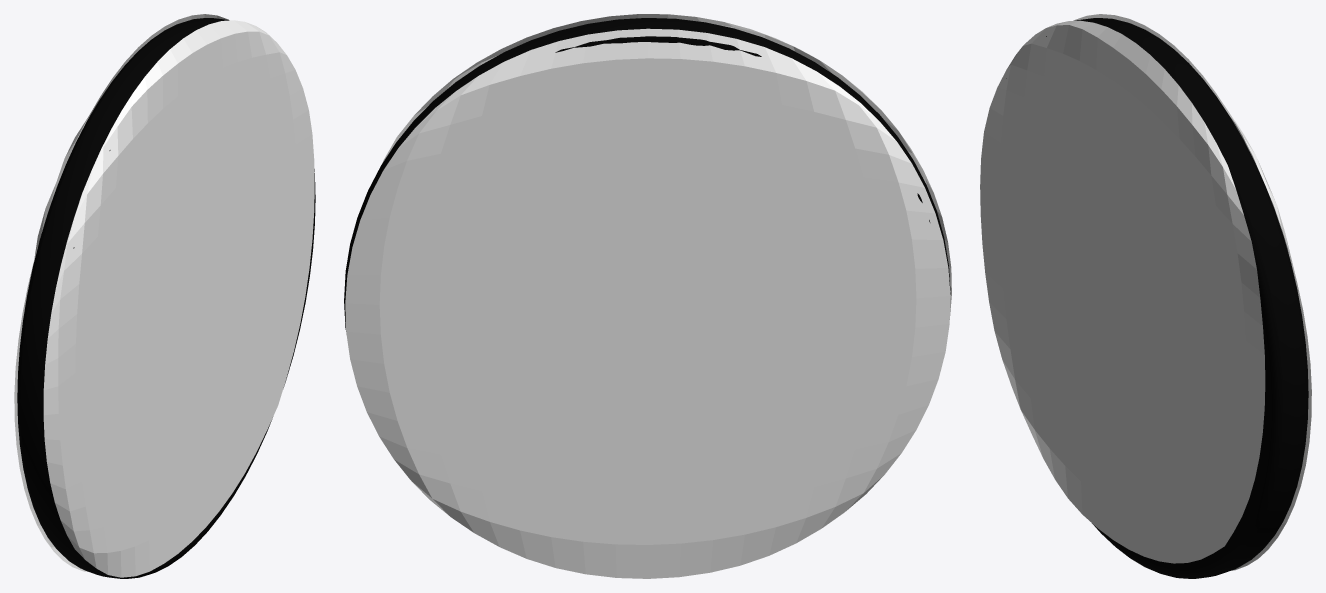
Rendered from american-plumbing.glb.
3 views of the same model, side by side, from view 1: azimuth 30°, elevation 25°; view 2: azimuth 150°, elevation 25°; view 3: azimuth 270°, elevation 25° (orthographic). The views are drawn at different scales.
Parts seen in each view (by area): view 1: Frame 54.001, Twitter_high, Frame 54; view 2: Frame 54, Twitter_high, Frame 54.001; view 3: Frame 54.001, Twitter_high, Frame 54.
Boxes of the visible parts, x1,y1,x2,y2 form: Frame 54.001: (43, 20, 314, 577); Twitter_high: (17, 18, 315, 578); Frame 54: (14, 14, 229, 572); Frame 54: (345, 28, 950, 578); Twitter_high: (344, 18, 950, 329); Frame 54.001: (382, 14, 951, 319); Frame 54.001: (980, 20, 1265, 563); Twitter_high: (1006, 18, 1308, 578); Frame 54: (1073, 14, 1311, 570).
Size of the model in its own units: 1.87 by 2.13 by 1.23.
Materials: 2 (1 with a texture image).
